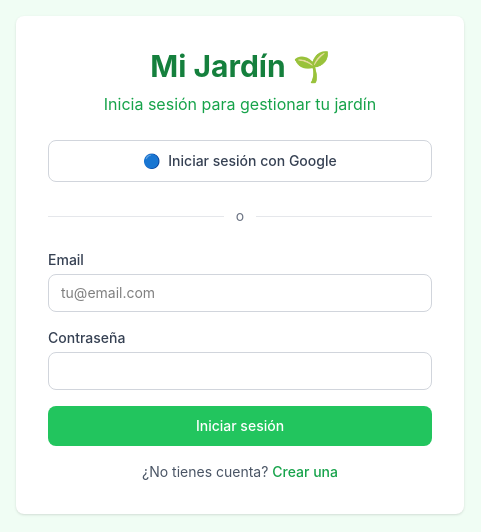
Scenario: Login › toggles between login and signup mode
Expected: the button "Iniciar sesión" is shown, [48,406,432,446]
What coordinates should you click on to do the following:
click the button "Crear una"
I would click on:
 (305, 472)
Its box is [272,462,338,482].
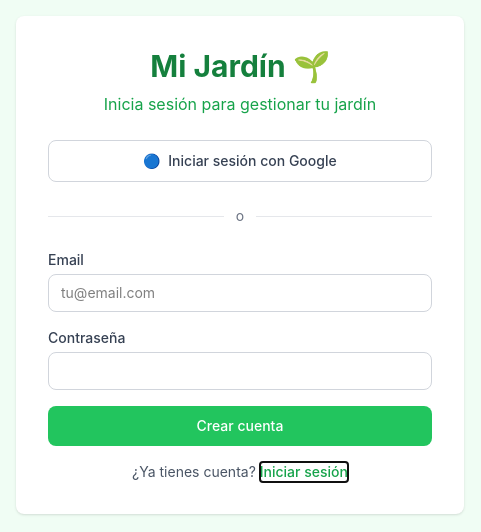
Expected: the button "Crear cuenta" is shown, [48,406,432,446]
What coordinates should you click on to do the following:
click the button "Iniciar sesión"
I would click on:
 (304, 472)
Its box is [260,462,348,482].
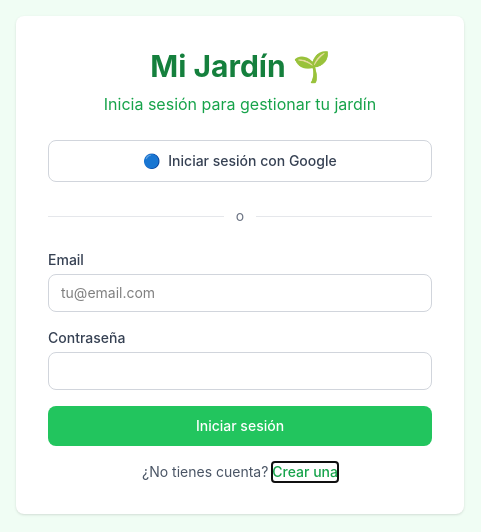
Expected: the button "Iniciar sesión" is shown, [48,406,432,446]
